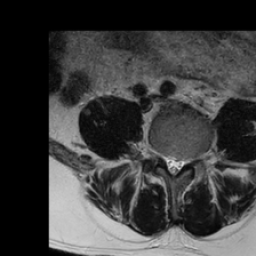CCS_stenosis: (170, 148, 176, 183)
LFS_stenosis: (186, 147, 196, 168)
LLS_stenosis: (176, 151, 184, 174)
RFS_stenosis: (154, 143, 163, 164)
RLS_normal: (163, 148, 170, 173)
